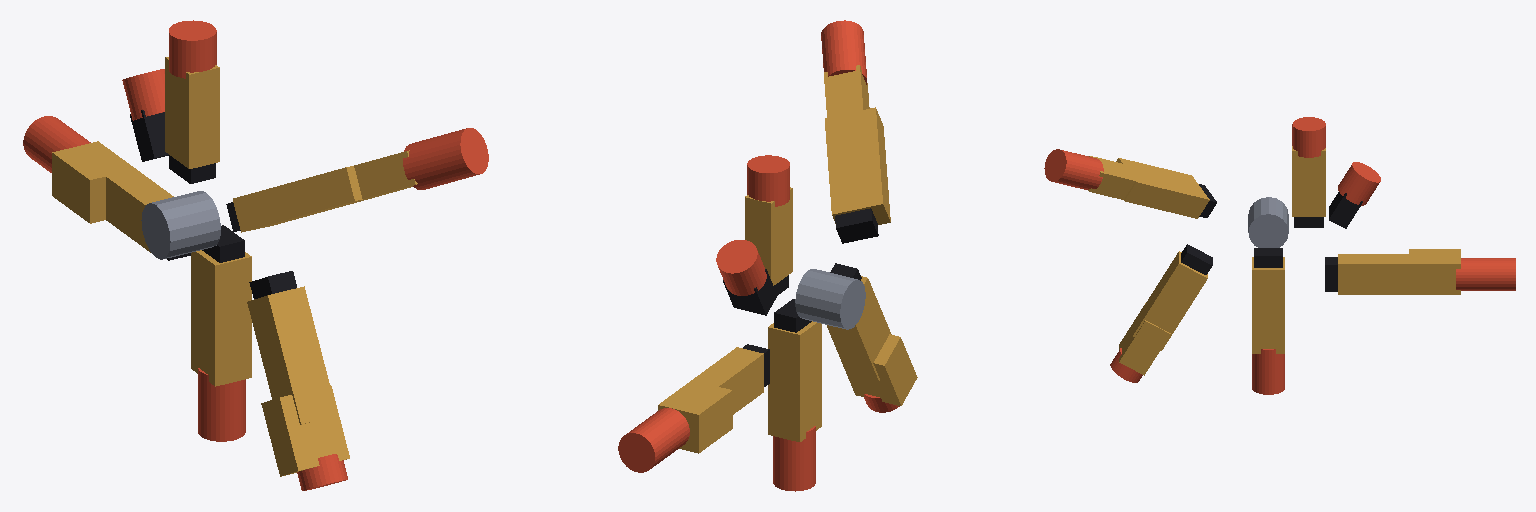
robot.urdf — g0014_c09:
<robot name="g0014_c09">
  <link name="palm">
    <visual name="palm_palm1">
      <origin xyz="0 0 0" rpy="0 0 0" />
      <geometry>
        <mesh filename="palm_palm1.obj" />
      </geometry>
      <material name="palm_palm1_mat">
        <color rgba="0.55 0.57 0.62 1" />
      </material>
    </visual>
    <collision>
      <origin xyz="0 0 0" rpy="0 0 0" />
      <geometry>
        <mesh filename="palm_palm1.obj" />
      </geometry>
    </collision>
    <visual name="palm_mount2">
      <origin xyz="0 0 0" rpy="0 0 0" />
      <geometry>
        <mesh filename="palm_mount2.obj" />
      </geometry>
      <material name="palm_mount2_mat">
        <color rgba="0.55 0.57 0.62 1" />
      </material>
    </visual>
    <collision>
      <origin xyz="0 0 0" rpy="0 0 0" />
      <geometry>
        <mesh filename="palm_mount2.obj" />
      </geometry>
    </collision>
    <visual name="palm_motor3">
      <origin xyz="0 -0.07625 -0.0335048095" rpy="1.57079633 -0.523598776 -1.57079633" />
      <geometry>
        <box size="0.029 0.034 0.02" />
      </geometry>
      <material name="palm_motor3_mat">
        <color rgba="0.15 0.15 0.17 1" />
      </material>
    </visual>
    <collision>
      <origin xyz="0 -0.07625 -0.0335048095" rpy="1.57079633 -0.523598776 -1.57079633" />
      <geometry>
        <box size="0.029 0.034 0.02" />
      </geometry>
    </collision>
    <visual name="palm_motor4">
      <origin xyz="-0.0117894192 -0.074375 0.0367524047" rpy="-0.463647609 0.252680255 0.463647609" />
      <geometry>
        <box size="0.029 0.034 0.02" />
      </geometry>
      <material name="palm_motor4_mat">
        <color rgba="0.15 0.15 0.17 1" />
      </material>
    </visual>
    <collision>
      <origin xyz="-0.0117894192 -0.074375 0.0367524047" rpy="-0.463647609 0.252680255 0.463647609" />
      <geometry>
        <box size="0.029 0.034 0.02" />
      </geometry>
    </collision>
    <visual name="palm_motor5">
      <origin xyz="0 -9.18485099e-19 -0.0325" rpy="1.57079633 1.2246468e-16 -1.57079633" />
      <geometry>
        <box size="0.029 0.034 0.02" />
      </geometry>
      <material name="palm_motor5_mat">
        <color rgba="0.15 0.15 0.17 1" />
      </material>
    </visual>
    <collision>
      <origin xyz="0 -9.18485099e-19 -0.0325" rpy="1.57079633 1.2246468e-16 -1.57079633" />
      <geometry>
        <box size="0.029 0.034 0.02" />
      </geometry>
    </collision>
    <visual name="palm_motor6">
      <origin xyz="0 0.04 0.0325" rpy="-1.57079633 -0 1.57079633" />
      <geometry>
        <box size="0.029 0.034 0.02" />
      </geometry>
      <material name="palm_motor6_mat">
        <color rgba="0.15 0.15 0.17 1" />
      </material>
    </visual>
    <collision>
      <origin xyz="0 0.04 0.0325" rpy="-1.57079633 -0 1.57079633" />
      <geometry>
        <box size="0.029 0.034 0.02" />
      </geometry>
    </collision>
    <visual name="palm_motor7">
      <origin xyz="0 0.0725 -0.04" rpy="-3.14159265 1.57079633 0" />
      <geometry>
        <box size="0.029 0.034 0.02" />
      </geometry>
      <material name="palm_motor7_mat">
        <color rgba="0.15 0.15 0.17 1" />
      </material>
    </visual>
    <collision>
      <origin xyz="0 0.0725 -0.04" rpy="-3.14159265 1.57079633 0" />
      <geometry>
        <box size="0.029 0.034 0.02" />
      </geometry>
    </collision>
    <visual name="palm_motor8">
      <origin xyz="-0.0045 0.07625 0.0335048095" rpy="-2.0943951 3.061617e-17 5.30287619e-17" />
      <geometry>
        <box size="0.029 0.034 0.02" />
      </geometry>
      <material name="palm_motor8_mat">
        <color rgba="0.15 0.15 0.17 1" />
      </material>
    </visual>
    <collision>
      <origin xyz="-0.0045 0.07625 0.0335048095" rpy="-2.0943951 3.061617e-17 5.30287619e-17" />
      <geometry>
        <box size="0.029 0.034 0.02" />
      </geometry>
    </collision>
    <inertial>
      <origin xyz="0 -0.00334316917 0.000429043612" rpy="1.57079633 0.0269360971 1.57079633" />
      <mass value="0.922578791" />
      <inertia ixx="0.00102842525" ixy="0" ixz="0" iyy="0.002867283" iyz="0" izz="0.00380714069" />
    </inertial>
  </link>
  <link name="f0_link0">
    <visual name="f0_link0_link1">
      <origin xyz="0.03375 0 -6.9388939e-18" rpy="0 4.06369831e-17 0" />
      <geometry>
        <box size="0.0915 0.029 0.033" />
      </geometry>
      <material name="f0_link0_link1_mat">
        <color rgba="0.80 0.62 0.30 1" />
      </material>
    </visual>
    <collision>
      <origin xyz="0.03375 0 -6.9388939e-18" rpy="0 4.06369831e-17 0" />
      <geometry>
        <box size="0.0915 0.029 0.033" />
      </geometry>
    </collision>
    <inertial>
      <origin xyz="0.03375 0 0" rpy="0 0 0" />
      <mass value="0.153239625" />
      <inertia ixx="2.46460397e-05" ixy="0" ixz="0" iyy="0.000120819867" iyz="0" izz="0.000117652915" />
    </inertial>
  </link>
  <link name="f0_link1">
    <visual name="f0_link1_link1">
      <origin xyz="0.014 -0.004 -2.08166817e-17" rpy="0 4.06369831e-17 0" />
      <geometry>
        <box size="0.052 0.041 0.029" />
      </geometry>
      <material name="f0_link1_link1_mat">
        <color rgba="0.80 0.62 0.30 1" />
      </material>
    </visual>
    <collision>
      <origin xyz="0.014 -0.004 -2.08166817e-17" rpy="0 4.06369831e-17 0" />
      <geometry>
        <box size="0.052 0.041 0.029" />
      </geometry>
    </collision>
    <inertial>
      <origin xyz="0.014 -0.004 0" rpy="0 0 0" />
      <mass value="0.108199" />
      <inertia ixx="2.27398232e-05" ixy="0" ixz="0" iyy="3.19637879e-05" iyz="0" izz="3.95377179e-05" />
    </inertial>
  </link>
  <link name="f0_link2">
    <visual name="f0_link2_link1">
      <origin xyz="0.014 0 -1.38777878e-17" rpy="-1.57079633 -0 -1.57079633" />
      <geometry>
        <cylinder radius="0.0165" length="0.019" />
      </geometry>
      <material name="f0_link2_link1_mat">
        <color rgba="0.85 0.35 0.25 1" />
      </material>
    </visual>
    <collision>
      <origin xyz="0.014 0 -1.38777878e-17" rpy="-1.57079633 -0 -1.57079633" />
      <geometry>
        <cylinder radius="0.0165" length="0.019" />
      </geometry>
    </collision>
    <inertial>
      <origin xyz="0.014 0 0" rpy="0 0 0" />
      <mass value="0.0613676745" />
      <inertia ixx="7.45718278e-06" ixy="0" ixz="0" iyy="1.32201625e-05" iyz="0" izz="1.32201625e-05" />
    </inertial>
  </link>
  <link name="f1_link0">
    <visual name="f1_link0_link1">
      <origin xyz="0.03625 -0.004 -1.04083409e-17" rpy="0 5.83273575e-17 6.5670397e-17" />
      <geometry>
        <box size="0.0965 0.041 0.024" />
      </geometry>
      <material name="f1_link0_link1_mat">
        <color rgba="0.80 0.62 0.30 1" />
      </material>
    </visual>
    <collision>
      <origin xyz="0.03625 -0.004 -1.04083409e-17" rpy="0 5.83273575e-17 6.5670397e-17" />
      <geometry>
        <box size="0.0965 0.041 0.024" />
      </geometry>
    </collision>
    <inertial>
      <origin xyz="0.03625 -0.004 0" rpy="0 0 0" />
      <mass value="0.166173" />
      <inertia ixx="3.12543718e-05" ixy="0" ixz="0" iyy="0.000136930014" iyz="0" izz="0.000152231778" />
    </inertial>
  </link>
  <link name="f1_link1">
    <visual name="f1_link1_link1">
      <origin xyz="0.0215 6.9388939e-18 -1.73472348e-18" rpy="0 5.83273575e-17 6.5670397e-17" />
      <geometry>
        <box size="0.076 0.029 0.024" />
      </geometry>
      <material name="f1_link1_link1_mat">
        <color rgba="0.80 0.62 0.30 1" />
      </material>
    </visual>
    <collision>
      <origin xyz="0.0215 6.9388939e-18 -1.73472348e-18" rpy="0 5.83273575e-17 6.5670397e-17" />
      <geometry>
        <box size="0.076 0.029 0.024" />
      </geometry>
    </collision>
    <inertial>
      <origin xyz="0.0215 0 0" rpy="0 0 0" />
      <mass value="0.092568" />
      <inertia ixx="1.0930738e-05" ixy="0" ixz="0" iyy="4.8999328e-05" iyz="0" izz="5.1043538e-05" />
    </inertial>
  </link>
  <link name="f1_link2">
    <visual name="f1_link2_link1">
      <origin xyz="0.029 6.9388939e-18 -9.54097912e-18" rpy="-1.57079633 -0 -1.57079633" />
      <geometry>
        <cylinder radius="0.0165" length="0.049" />
      </geometry>
      <material name="f1_link2_link1_mat">
        <color rgba="0.85 0.35 0.25 1" />
      </material>
    </visual>
    <collision>
      <origin xyz="0.029 6.9388939e-18 -9.54097912e-18" rpy="-1.57079633 -0 -1.57079633" />
      <geometry>
        <cylinder radius="0.0165" length="0.049" />
      </geometry>
    </collision>
    <inertial>
      <origin xyz="0.029 0 0" rpy="0 0 0" />
      <mass value="0.106270851" />
      <inertia ixx="1.35696277e-05" ixy="0" ixz="0" iyy="5.30015704e-05" iyz="0" izz="5.30015704e-05" />
    </inertial>
  </link>
  <link name="f2_link0">
    <visual name="f2_link0_link1">
      <origin xyz="0.03375 0 -7.70371978e-34" rpy="0 -0 0" />
      <geometry>
        <box size="0.0915 0.029 0.033" />
      </geometry>
      <material name="f2_link0_link1_mat">
        <color rgba="0.80 0.62 0.30 1" />
      </material>
    </visual>
    <collision>
      <origin xyz="0.03375 0 -7.70371978e-34" rpy="0 -0 0" />
      <geometry>
        <box size="0.0915 0.029 0.033" />
      </geometry>
    </collision>
    <inertial>
      <origin xyz="0.03375 0 0" rpy="0 0 0" />
      <mass value="0.153239625" />
      <inertia ixx="2.46460397e-05" ixy="0" ixz="0" iyy="0.000120819867" iyz="0" izz="0.000117652915" />
    </inertial>
  </link>
  <link name="f2_link1">
    <visual name="f2_link1_link1">
      <origin xyz="0.029 0 0" rpy="-1.57079633 -0 -1.57079633" />
      <geometry>
        <cylinder radius="0.0165" length="0.049" />
      </geometry>
      <material name="f2_link1_link1_mat">
        <color rgba="0.85 0.35 0.25 1" />
      </material>
    </visual>
    <collision>
      <origin xyz="0.029 0 0" rpy="-1.57079633 -0 -1.57079633" />
      <geometry>
        <cylinder radius="0.0165" length="0.049" />
      </geometry>
    </collision>
    <inertial>
      <origin xyz="0.029 0 0" rpy="0 0 0" />
      <mass value="0.106270851" />
      <inertia ixx="1.35696277e-05" ixy="0" ixz="0" iyy="5.30015704e-05" iyz="0" izz="5.30015704e-05" />
    </inertial>
  </link>
  <link name="f3_link0">
    <visual name="f3_link0_link1">
      <origin xyz="0.02375 0 0" rpy="0 -0 0" />
      <geometry>
        <box size="0.0715 0.024 0.033" />
      </geometry>
      <material name="f3_link0_link1_mat">
        <color rgba="0.80 0.62 0.30 1" />
      </material>
    </visual>
    <collision>
      <origin xyz="0.02375 0 0" rpy="0 -0 0" />
      <geometry>
        <box size="0.0715 0.024 0.033" />
      </geometry>
    </collision>
    <inertial>
      <origin xyz="0.02375 0 0" rpy="0 0 0" />
      <mass value="0.099099" />
      <inertia ixx="1.37499863e-05" ixy="0" ixz="0" iyy="5.12114728e-05" iyz="0" izz="4.69749906e-05" />
    </inertial>
  </link>
  <link name="f3_link1">
    <visual name="f3_link1_link1">
      <origin xyz="0.019 0 0" rpy="-1.57079633 -0 -1.57079633" />
      <geometry>
        <cylinder radius="0.0165" length="0.029" />
      </geometry>
      <material name="f3_link1_link1_mat">
        <color rgba="0.85 0.35 0.25 1" />
      </material>
    </visual>
    <collision>
      <origin xyz="0.019 0 0" rpy="-1.57079633 -0 -1.57079633" />
      <geometry>
        <cylinder radius="0.0165" length="0.029" />
      </geometry>
    </collision>
    <inertial>
      <origin xyz="0.019 0 0" rpy="0 0 0" />
      <mass value="0.0763354" />
      <inertia ixx="9.49466441e-06" ixy="0" ixz="0" iyy="2.24143997e-05" iyz="0" izz="2.24143997e-05" />
    </inertial>
  </link>
  <link name="f4_link0">
    <visual name="f4_link0_link1">
      <origin xyz="0.03375 0 0" rpy="0 -0 0" />
      <geometry>
        <box size="0.0915 0.024 0.033" />
      </geometry>
      <material name="f4_link0_link1_mat">
        <color rgba="0.80 0.62 0.30 1" />
      </material>
    </visual>
    <collision>
      <origin xyz="0.03375 0 0" rpy="0 -0 0" />
      <geometry>
        <box size="0.0915 0.024 0.033" />
      </geometry>
    </collision>
    <inertial>
      <origin xyz="0.03375 0 0" rpy="0 0 0" />
      <mass value="0.126819" />
      <inertia ixx="1.75961363e-05" ixy="0" ixz="0" iyy="9.99888553e-05" iyz="0" izz="9.45673431e-05" />
    </inertial>
  </link>
  <link name="f4_link1">
    <visual name="f4_link1_link1">
      <origin xyz="0.014 -0.00625 0" rpy="0 -0 0" />
      <geometry>
        <box size="0.052 0.0365 0.033" />
      </geometry>
      <material name="f4_link1_link1_mat">
        <color rgba="0.80 0.62 0.30 1" />
      </material>
    </visual>
    <collision>
      <origin xyz="0.014 -0.00625 0" rpy="0 -0 0" />
      <geometry>
        <box size="0.052 0.0365 0.033" />
      </geometry>
    </collision>
    <inertial>
      <origin xyz="0.014 -0.00625 0" rpy="0 0 0" />
      <mass value="0.1096095" />
      <inertia ixx="2.21160002e-05" ixy="0" ixz="0" iyy="3.46457361e-05" iyz="0" izz="3.6867612e-05" />
    </inertial>
  </link>
  <link name="f4_link2">
    <visual name="f4_link2_link1">
      <origin xyz="0.034 0 -3.46944695e-18" rpy="-1.57079633 -0 -1.57079633" />
      <geometry>
        <cylinder radius="0.0165" length="0.059" />
      </geometry>
      <material name="f4_link2_link1_mat">
        <color rgba="0.85 0.35 0.25 1" />
      </material>
    </visual>
    <collision>
      <origin xyz="0.034 0 -3.46944695e-18" rpy="-1.57079633 -0 -1.57079633" />
      <geometry>
        <cylinder radius="0.0165" length="0.059" />
      </geometry>
    </collision>
    <inertial>
      <origin xyz="0.034 0 0" rpy="0 0 0" />
      <mass value="0.121238577" />
      <inertia ixx="1.56071093e-05" ixy="0" ixz="0" iyy="7.58912764e-05" iyz="0" izz="7.58912764e-05" />
    </inertial>
  </link>
  <link name="f5_link0">
    <visual name="f5_link0_link1">
      <origin xyz="0.019 0 6.9388939e-18" rpy="-1.57079633 -0 -1.57079633" />
      <geometry>
        <cylinder radius="0.0165" length="0.029" />
      </geometry>
      <material name="f5_link0_link1_mat">
        <color rgba="0.85 0.35 0.25 1" />
      </material>
    </visual>
    <collision>
      <origin xyz="0.019 0 6.9388939e-18" rpy="-1.57079633 -0 -1.57079633" />
      <geometry>
        <cylinder radius="0.0165" length="0.029" />
      </geometry>
    </collision>
    <inertial>
      <origin xyz="0.019 0 0" rpy="0 0 0" />
      <mass value="0.0763354" />
      <inertia ixx="9.49466441e-06" ixy="0" ixz="0" iyy="2.24143997e-05" iyz="0" izz="2.24143997e-05" />
    </inertial>
  </link>
  <joint name="f0_j0" type="revolute">
    <parent link="palm" />
    <child link="f0_link0" />
    <origin xyz="0 -0.08 -0.04" rpy="0 1.04719755 -1.57079633" />
    <axis xyz="0 0 1" />
    <limit effort="0.5" lower="-0.523598776" upper="1.57079633" velocity="5" />
    <dynamics damping="0.0775033" friction="0" />
  </joint>
  <joint name="f0_j1" type="revolute">
    <parent link="f0_link0" />
    <child link="f0_link1" />
    <origin xyz="0.07 0 0" rpy="0 0 0" />
    <axis xyz="0 1 6.123234e-17" />
    <limit effort="0.5" lower="-0.523598776" upper="0.523598776" velocity="5" />
    <dynamics damping="0.0775033" friction="0" />
  </joint>
  <joint name="f0_j2" type="revolute">
    <parent link="f0_link1" />
    <child link="f0_link2" />
    <origin xyz="0.03 0 0" rpy="0 0 0" />
    <axis xyz="0 0 1" />
    <limit effort="0.5" lower="-0.523598776" upper="1.57079633" velocity="5" />
    <dynamics damping="0.0775033" friction="0" />
  </joint>
  <joint name="f1_j0" type="revolute">
    <parent link="palm" />
    <child link="f1_link0" />
    <origin xyz="-0.00803941916 -0.08 0.04" rpy="-0.281034902 -0.447832397 -0.982793723" />
    <axis xyz="-0 -1 -6.123234e-17" />
    <limit effort="0.5" lower="-0.523598776" upper="0.523598776" velocity="5" />
    <dynamics damping="0.0775033" friction="0" />
  </joint>
  <joint name="f1_j1" type="revolute">
    <parent link="f1_link0" />
    <child link="f1_link1" />
    <origin xyz="0.07 0 0" rpy="0 0 0" />
    <axis xyz="1 0 6.123234e-17" />
    <limit effort="0.5" lower="-1.57079633" upper="1.57079633" velocity="5" />
    <dynamics damping="0.0775033" friction="0" />
  </joint>
  <joint name="f1_j2" type="revolute">
    <parent link="f1_link1" />
    <child link="f1_link2" />
    <origin xyz="0.05 0 0" rpy="0 0 0" />
    <axis xyz="-0 -1 -6.123234e-17" />
    <limit effort="0.5" lower="-0.523598776" upper="0.523598776" velocity="5" />
    <dynamics damping="0.0775033" friction="0" />
  </joint>
  <joint name="f2_j0" type="revolute">
    <parent link="palm" />
    <child link="f2_link0" />
    <origin xyz="0 0 -0.04" rpy="1.57079633 1.57079633 0" />
    <axis xyz="0 0 1" />
    <limit effort="0.5" lower="-0.523598776" upper="1.57079633" velocity="5" />
    <dynamics damping="0.0775033" friction="0" />
  </joint>
  <joint name="f2_j1" type="revolute">
    <parent link="f2_link0" />
    <child link="f2_link1" />
    <origin xyz="0.07 0 0" rpy="0 0 0" />
    <axis xyz="0 1 6.123234e-17" />
    <limit effort="0.5" lower="-0.523598776" upper="0.523598776" velocity="5" />
    <dynamics damping="0.0775033" friction="0" />
  </joint>
  <joint name="f3_j0" type="revolute">
    <parent link="palm" />
    <child link="f3_link0" />
    <origin xyz="0 0.04 0.04" rpy="-1.57079633 -1.57079633 0" />
    <axis xyz="0 0 1" />
    <limit effort="0.5" lower="-0.523598776" upper="1.57079633" velocity="5" />
    <dynamics damping="0.0775033" friction="0" />
  </joint>
  <joint name="f3_j1" type="revolute">
    <parent link="f3_link0" />
    <child link="f3_link1" />
    <origin xyz="0.05 0 0" rpy="0 0 0" />
    <axis xyz="0 0 1" />
    <limit effort="0.5" lower="-0.523598776" upper="1.57079633" velocity="5" />
    <dynamics damping="0.0775033" friction="0" />
  </joint>
  <joint name="f4_j0" type="revolute">
    <parent link="palm" />
    <child link="f4_link0" />
    <origin xyz="0 0.08 -0.04" rpy="-3.14159265 -6.123234e-17 1.57079633" />
    <axis xyz="0 0 1" />
    <limit effort="0.5" lower="-0.523598776" upper="1.57079633" velocity="5" />
    <dynamics damping="0.0775033" friction="0" />
  </joint>
  <joint name="f4_j1" type="revolute">
    <parent link="f4_link0" />
    <child link="f4_link1" />
    <origin xyz="0.07 0 0" rpy="0 0 0" />
    <axis xyz="0 0 1" />
    <limit effort="0.5" lower="-0.523598776" upper="1.57079633" velocity="5" />
    <dynamics damping="0.0775033" friction="0" />
  </joint>
  <joint name="f4_j2" type="revolute">
    <parent link="f4_link1" />
    <child link="f4_link2" />
    <origin xyz="0.03 0 0" rpy="0 0 0" />
    <axis xyz="0 0 1" />
    <limit effort="0.5" lower="-0.523598776" upper="1.57079633" velocity="5" />
    <dynamics damping="0.0775033" friction="0" />
  </joint>
  <joint name="f5_j0" type="revolute">
    <parent link="palm" />
    <child link="f5_link0" />
    <origin xyz="-0.0045 0.08 0.04" rpy="-3.14159265 -1.04719755 1.57079633" />
    <axis xyz="-0 -1 -6.123234e-17" />
    <limit effort="0.5" lower="-0.523598776" upper="0.523598776" velocity="5" />
    <dynamics damping="0.0775033" friction="0" />
  </joint>
</robot>

--- Facts derived from the render (not from the file) ---
Views: 3 orthographic renders of the robot side by side, from view 1: azimuth 30°, elevation 25°; view 2: azimuth 150°, elevation 25°; view 3: azimuth 270°, elevation 25°.
Model g0014_c09 with 15 links and 14 joints (14 revolute), rooted at palm, posed all joints at 0.
Links seen in each view (by area): view 1: palm, f2_link0, f0_link0, f3_link0, f1_link0, f0_link1, f4_link1, f1_link2, f4_link0, f2_link1, f3_link1, f4_link2 (+3 smaller); view 2: palm, f1_link0, f2_link0, f3_link0, f4_link1, f0_link0, f4_link2, f4_link0, f0_link1, f2_link1, f1_link2, f5_link0 (+2 smaller); view 3: palm, f4_link0, f1_link0, f0_link0, f2_link0, f3_link0, f4_link2, f1_link2, f0_link1, f4_link1, f2_link1, f3_link1 (+2 smaller).
Link boxes in pixels (x1=…): palm: x1=130, y1=110, x2=296, y2=298; f2_link0: x1=191, y1=250, x2=251, y2=386; f0_link0: x1=247, y1=286, x2=337, y2=424; f3_link0: x1=165, y1=57, x2=219, y2=168; f1_link0: x1=233, y1=166, x2=378, y2=232; f0_link1: x1=261, y1=385, x2=349, y2=476; f4_link1: x1=52, y1=141, x2=135, y2=223; f1_link2: x1=403, y1=128, x2=488, y2=189; f4_link0: x1=92, y1=159, x2=173, y2=252; f2_link1: x1=198, y1=368, x2=245, y2=441; f3_link1: x1=169, y1=20, x2=216, y2=78; f4_link2: x1=23, y1=116, x2=90, y2=172; palm: x1=723, y1=208, x2=878, y2=386; f1_link0: x1=825, y1=107, x2=890, y2=224; f2_link0: x1=768, y1=321, x2=821, y2=441; f3_link0: x1=745, y1=187, x2=792, y2=285; f4_link1: x1=658, y1=380, x2=732, y2=453; f0_link0: x1=827, y1=276, x2=891, y2=381; f4_link2: x1=618, y1=408, x2=689, y2=472; f4_link0: x1=678, y1=347, x2=763, y2=414; f0_link1: x1=843, y1=334, x2=917, y2=405; f2_link1: x1=773, y1=426, x2=815, y2=491; f1_link2: x1=821, y1=20, x2=866, y2=84; f5_link0: x1=716, y1=240, x2=766, y2=295; palm: x1=1181, y1=184, x2=1362, y2=291; f4_link0: x1=1338, y1=254, x2=1429, y2=294; f1_link0: x1=1116, y1=158, x2=1209, y2=218; f0_link0: x1=1133, y1=251, x2=1207, y2=350; f2_link0: x1=1252, y1=257, x2=1284, y2=353; f3_link0: x1=1292, y1=146, x2=1325, y2=216; f4_link2: x1=1456, y1=258, x2=1515, y2=290; f1_link2: x1=1044, y1=149, x2=1103, y2=189; f0_link1: x1=1119, y1=303, x2=1170, y2=375; f4_link1: x1=1409, y1=249, x2=1460, y2=294; f2_link1: x1=1252, y1=349, x2=1284, y2=394; f3_link1: x1=1292, y1=117, x2=1325, y2=157.
Bounding box of the posed robot: 0.145 × 0.4645 × 0.2934 m (x, y, z).
Meshes: 2 distinct files referenced, 1 mesh visuals loaded (1 OBJ); not drawn: 1 (reference not matched to a file when rendering).
